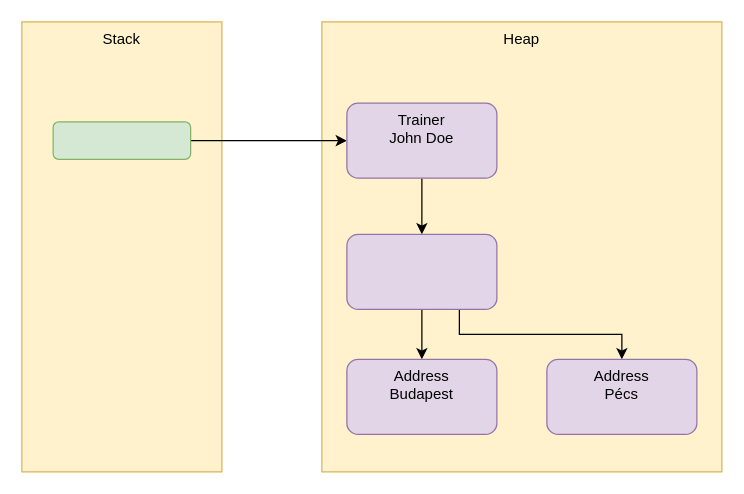
This 744x494 diagram has some shape labels left out. The shapes that lost their labels are listed below. From the top down, each one's centre as x and y in pixels, then its label:
At point (121, 140): "trainer".
At point (421, 271): "ArrayList".
